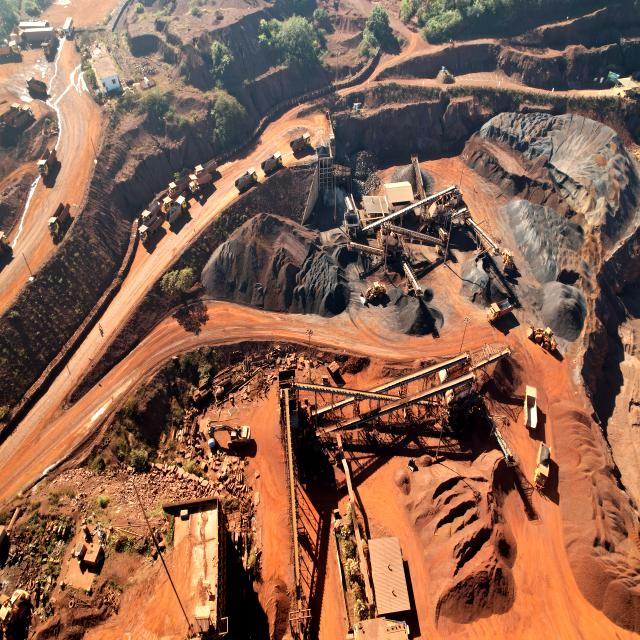Dumper truck: (533, 444, 552, 489), (47, 209, 71, 237), (487, 300, 514, 324), (524, 385, 537, 431), (38, 147, 57, 176), (169, 178, 195, 197), (140, 221, 165, 240), (160, 198, 185, 217), (142, 208, 167, 227), (192, 161, 215, 180), (237, 169, 260, 188), (265, 152, 283, 173), (293, 132, 311, 152), (0, 45, 21, 62), (26, 78, 44, 96), (0, 230, 11, 258), (41, 34, 54, 56), (188, 175, 200, 190)
Excavator: (207, 422, 251, 454)
person: (98, 322, 102, 332), (541, 342, 543, 348)
